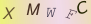C: (77, 1, 88, 15)
F: (66, 9, 78, 19)
M: (26, 2, 41, 15)
W: (45, 7, 57, 17)
X: (2, 5, 16, 20)
